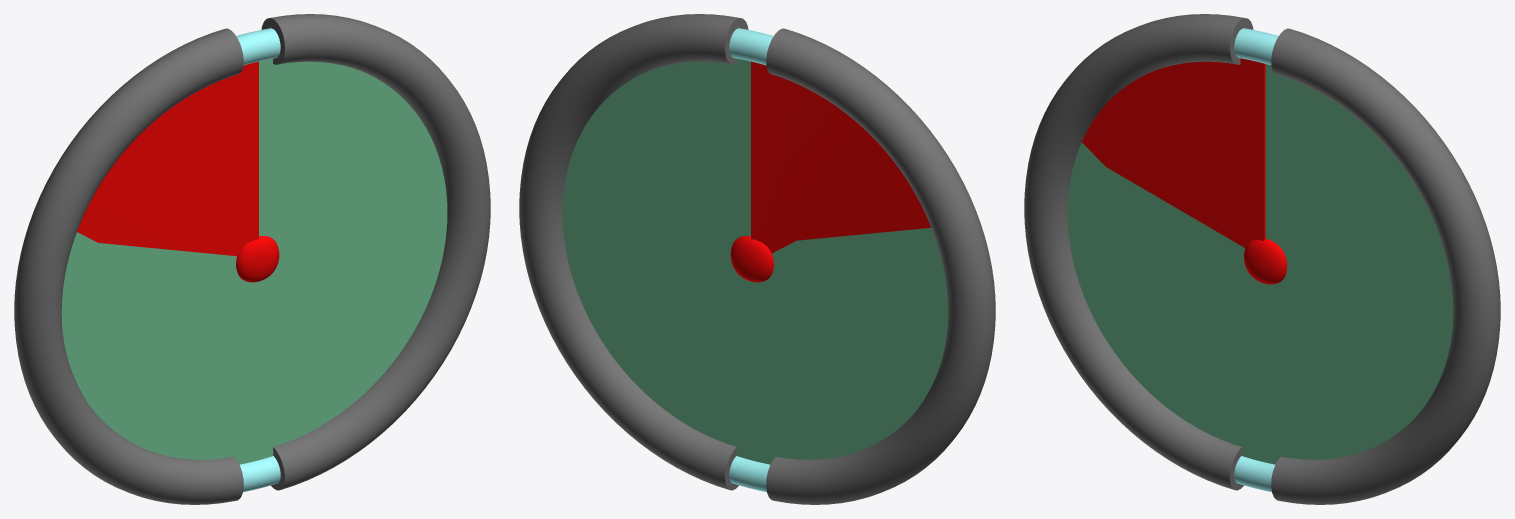
The model's file is Radar.fbx.
3 views of the same model, side by side, from view 1: azimuth 30°, elevation 25°; view 2: azimuth 150°, elevation 25°; view 3: azimuth 330°, elevation 25° (orthographic).
Parts seen in each view (by area): view 1: anneau, radar, fond, fond5, fond3, fond1, fond2, fond4, fond6; view 2: anneau, radar, fond, fond5, fond3, fond1, fond2, fond4, fond6; view 3: anneau, radar, fond, fond3, fond1, fond5, fond2, fond4, fond6.
Boxes of the visible parts, x1,y1,x2,y2 form: anneau: (14,14,490,504); radar: (77,61,279,282); fond: (61,264,239,433); fond5: (271,86,447,253); fond3: (271,213,447,367); fond1: (119,277,253,464); fond2: (253,274,387,461); fond4: (259,58,387,237); fond6: (62,232,236,306); anneau: (519,14,995,504); radar: (730,61,931,282); fond: (770,264,948,433); fond5: (562,86,738,253); fond3: (562,213,738,367); fond1: (756,277,890,464); fond2: (622,274,756,461); fond4: (622,58,750,237); fond6: (772,227,947,306); anneau: (1024,14,1500,504); radar: (1082,58,1287,284); fond: (1067,213,1247,367); fond3: (1279,266,1453,433); fond1: (1127,271,1261,461); fond5: (1279,155,1452,306); fond2: (1261,283,1395,464); fond4: (1265,64,1392,245); fond6: (1067,142,1245,255).
Size of the model in its own units: 4.55 by 4.34 by 0.4.
